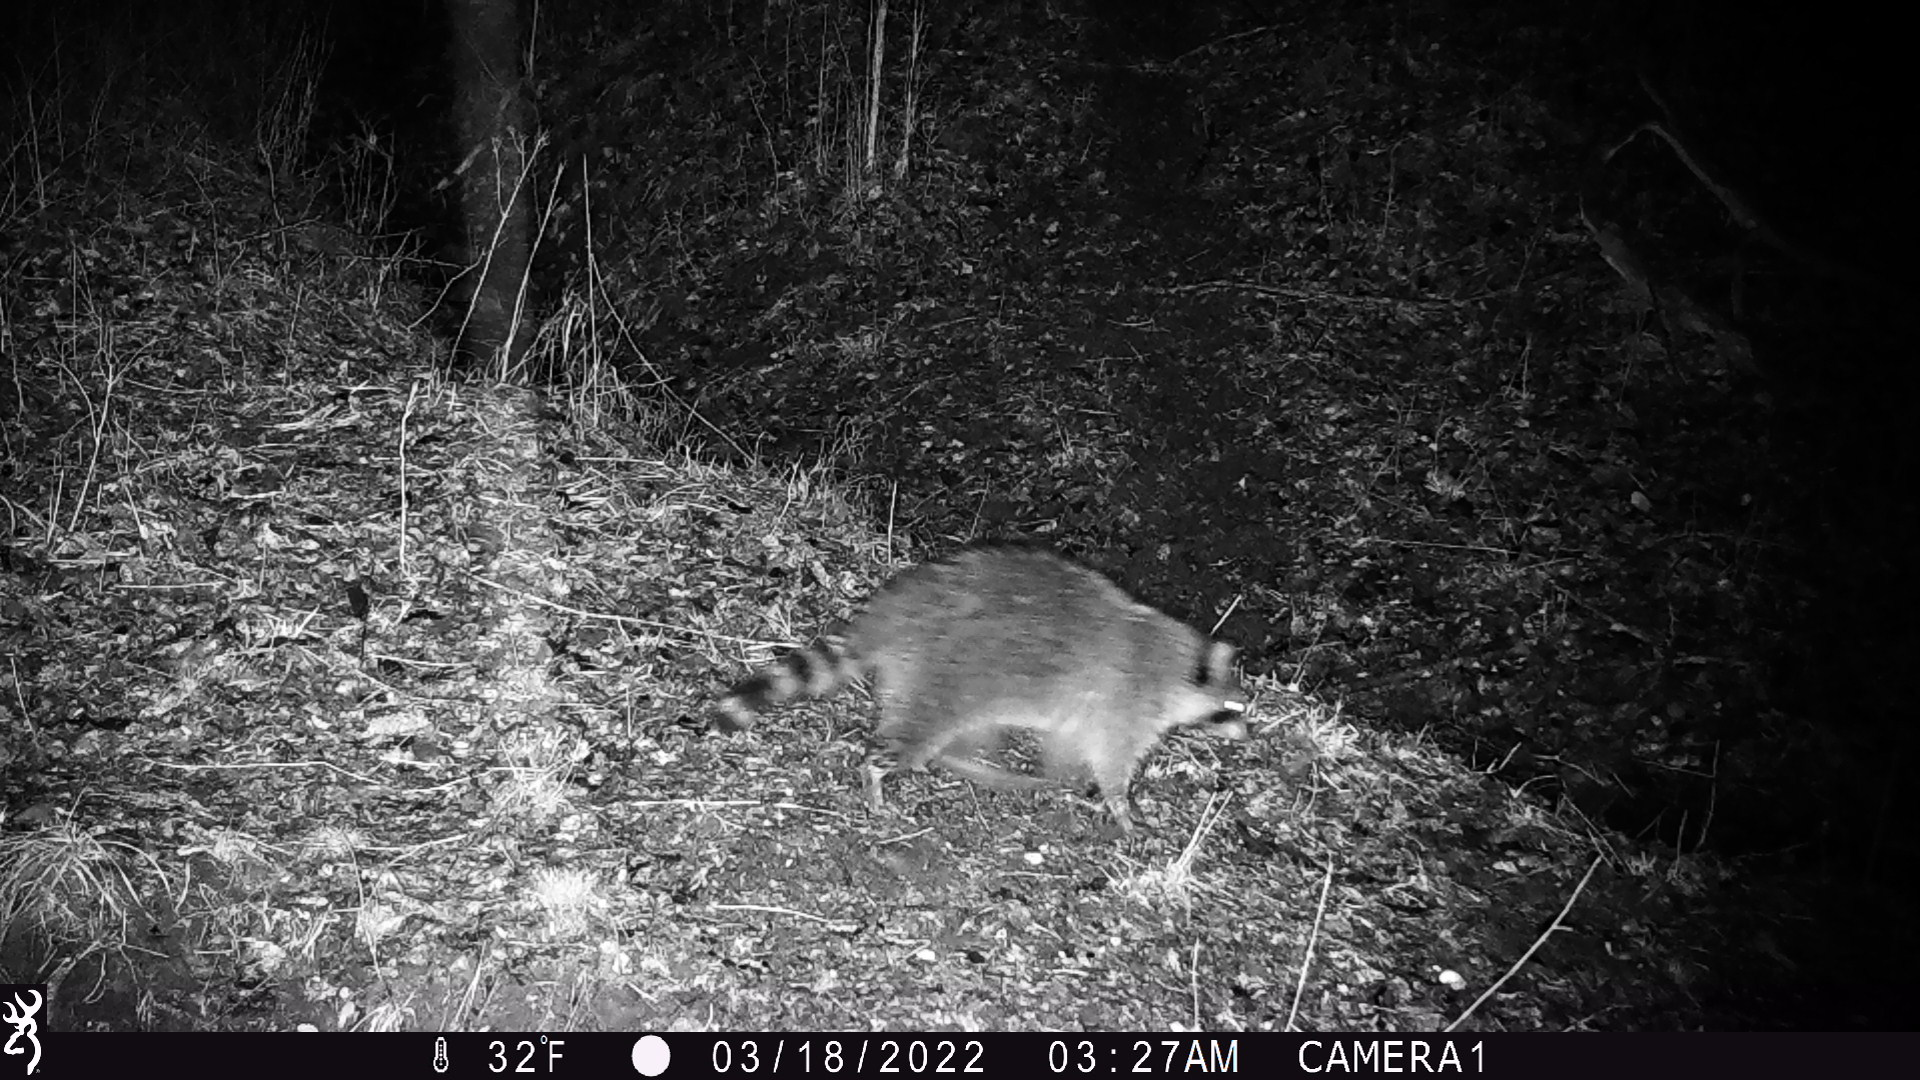Raccoon: (708, 541, 1254, 794)
